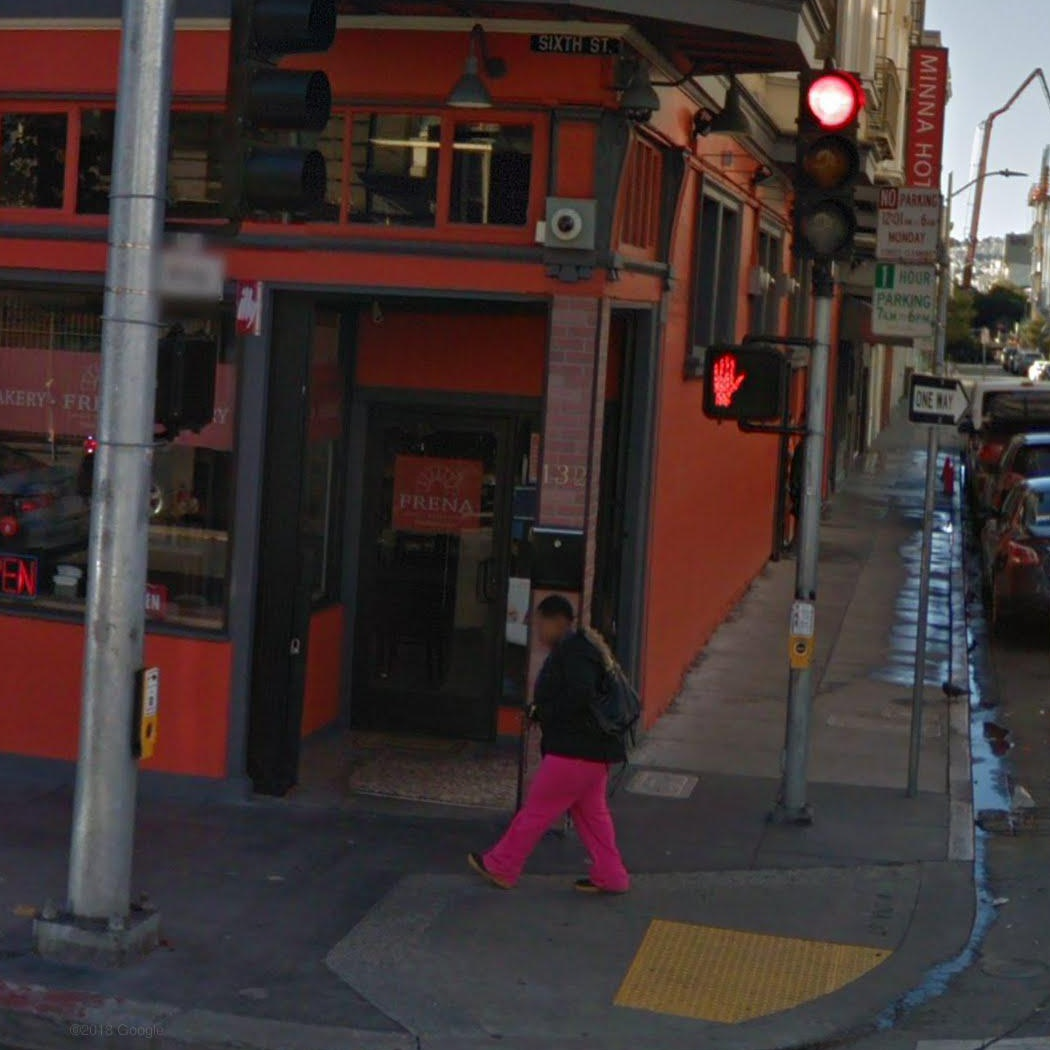1 Hour Parking: (869, 260, 938, 339)
No Parking: (875, 184, 941, 263)
